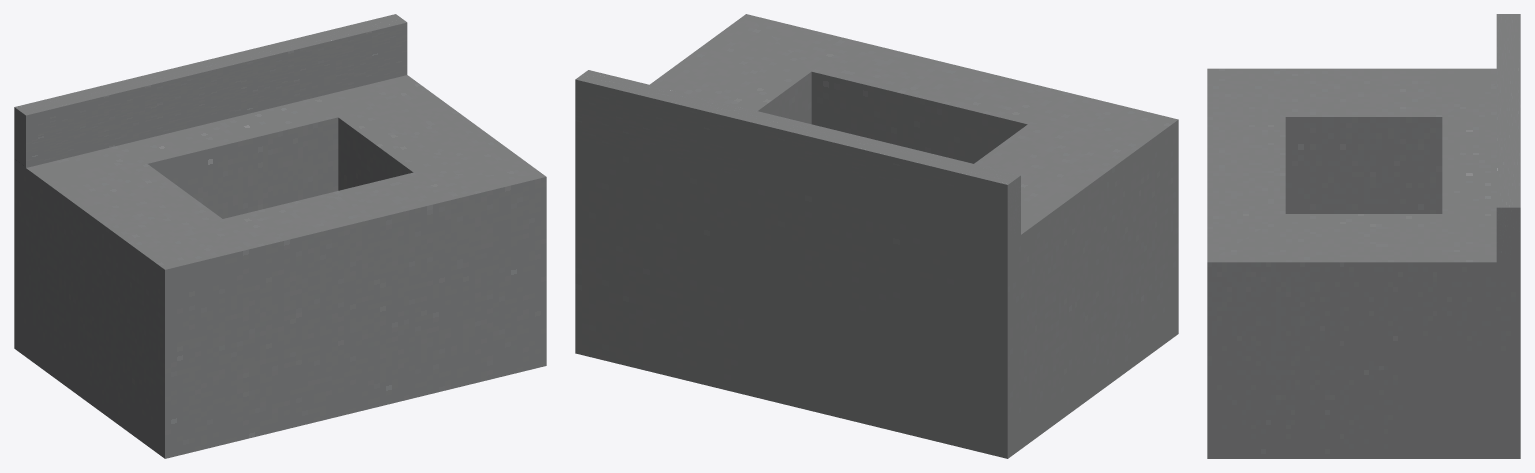
The model's file is sink-WU4UA7LZ.gltf.
The picture shows the model from 3 angles, left to right: view 1: azimuth 30°, elevation 25°; view 2: azimuth 150°, elevation 25°; view 3: azimuth 270°, elevation 25°; orthographic projection. The views are drawn at different scales.
Visible parts, largest first — view 1: cube (×2); view 2: cube (×2); view 3: cube (×2).
Boxes of the visible parts, x1,y1,x2,y2 form: cube (×2): (14,14,546,458); cube (×2): (575,14,1178,458); cube (×2): (1207,14,1520,458).
Size of the model in its own units: 1.19 by 0.7188 by 0.8125.
Materials: 1 (1 with a texture image).
